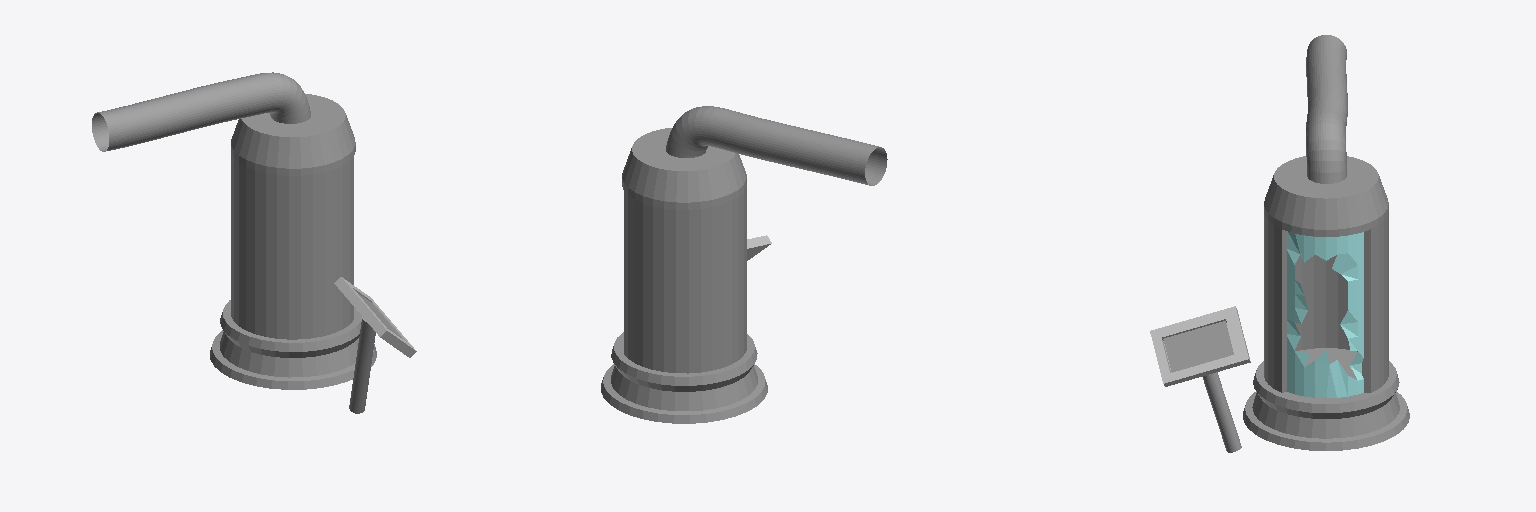
Rendered from cryochamberBroken.obj.
3 views of the same model, side by side, from view 1: azimuth 30°, elevation 25°; view 2: azimuth 150°, elevation 25°; view 3: azimuth 270°, elevation 25° (orthographic).
Parts seen in each view (by area): view 1: Cylinder.003, BezierCurve.001, Cylinder.002, Cube_Cube.001, Cylinder.001_Cylinder.005; view 2: Cylinder.003, BezierCurve.001, Cylinder.002; view 3: Cylinder.003, Cylinder.002, Cylinder, BezierCurve.001, Cube_Cube.001, Cube.002_Cube.003, Cylinder.001_Cylinder.005.
Boxes of the visible parts, <box> form: Cylinder.003: <box>231,94,355,339</box>; BezierCurve.001: <box>92,72,310,151</box>; Cylinder.002: <box>210,300,376,389</box>; Cube_Cube.001: <box>334,277,416,357</box>; Cylinder.001_Cylinder.005: <box>349,317,375,413</box>; Cylinder.003: <box>622,128,746,373</box>; BezierCurve.001: <box>666,106,887,185</box>; Cylinder.002: <box>601,332,767,423</box>; Cylinder.003: <box>1264,156,1388,392</box>; Cylinder.002: <box>1243,348,1409,450</box>; Cylinder: <box>1286,231,1363,397</box>; BezierCurve.001: <box>1306,35,1347,183</box>; Cube_Cube.001: <box>1150,306,1250,386</box>; Cube.002_Cube.003: <box>1163,321,1233,372</box>; Cylinder.001_Cylinder.005: <box>1202,372,1241,452</box>.
Bounding box in the file's own units: 5.38 × 6.06 × 4.55.